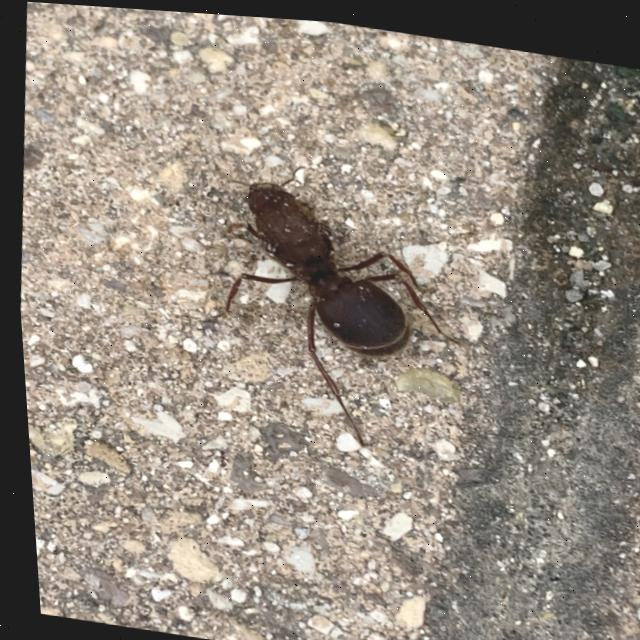Alive-Female-Dealate: (187, 147, 473, 456)
